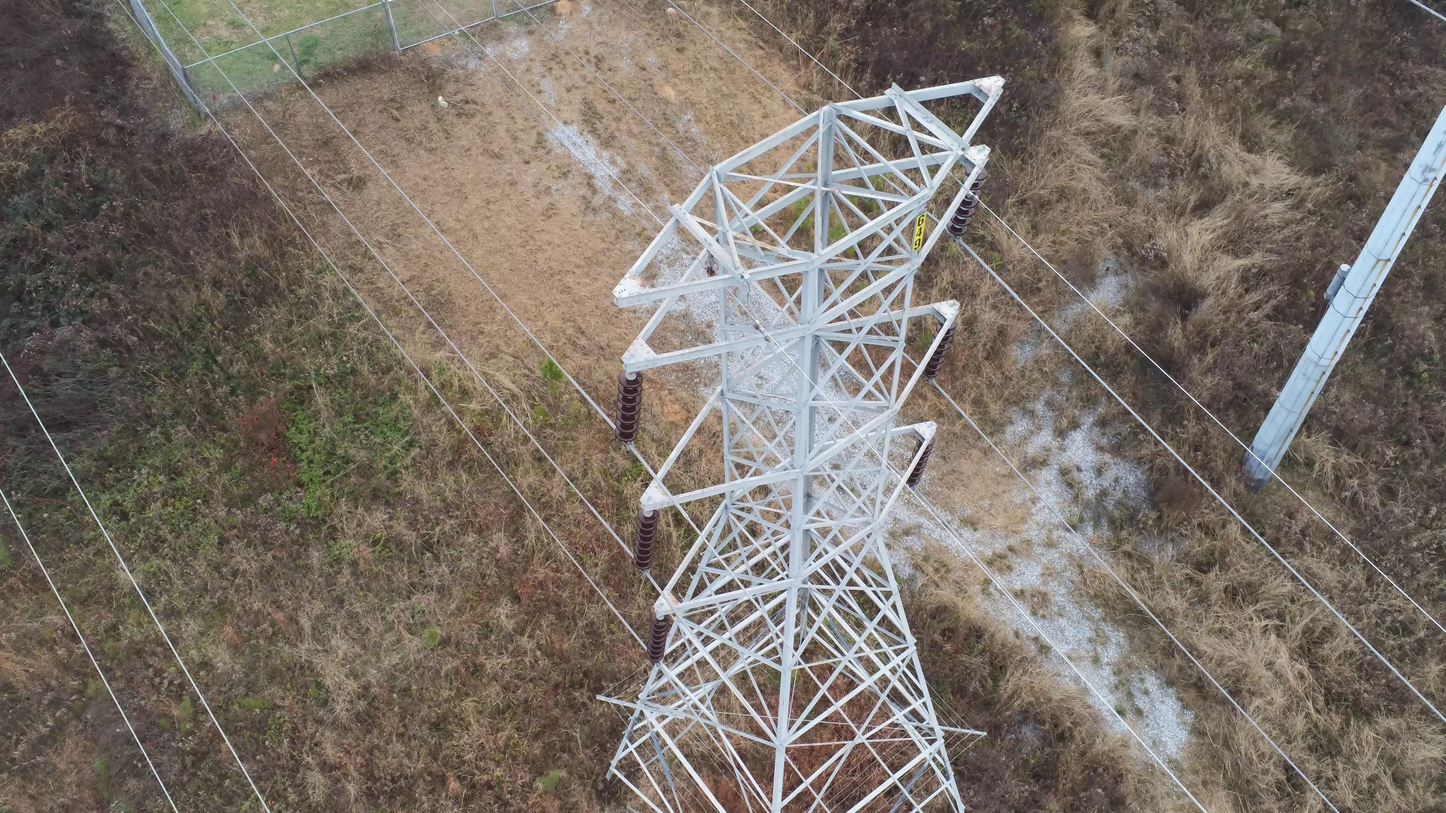power_tower: (595, 75, 1006, 813)
